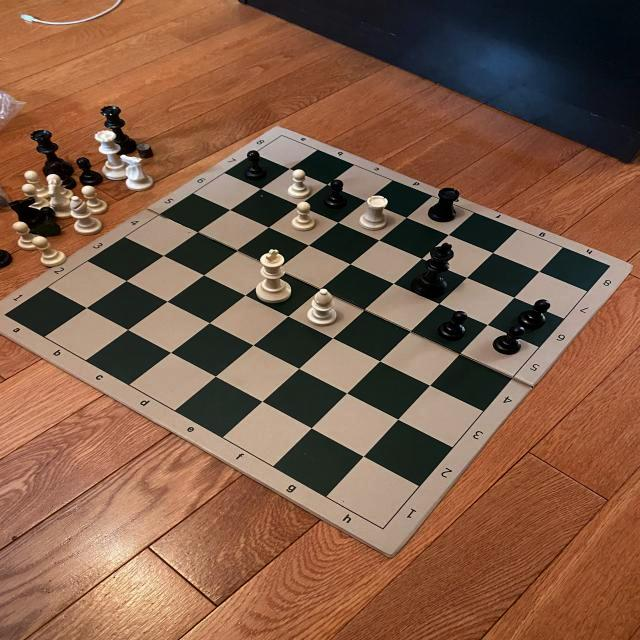chess-table-corners: (374, 521, 392, 535), (276, 131, 296, 142), (604, 262, 619, 272), (0, 310, 14, 320)
